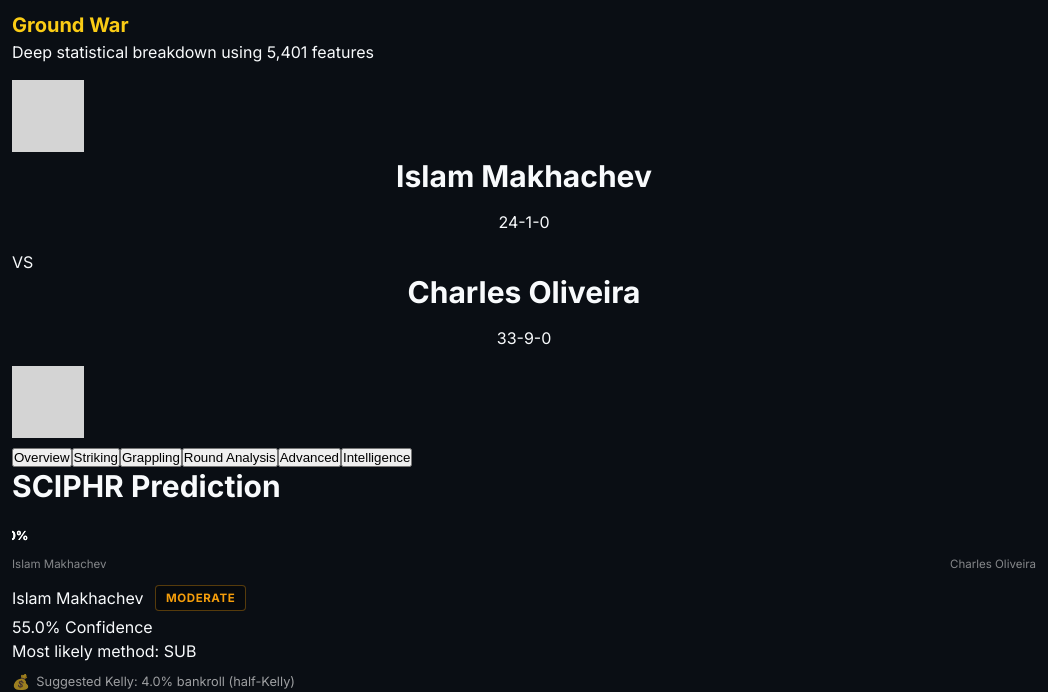
Test: AnalystMode — Intelligence tab › renders chaos score
Click the button "Intelligence": x=377, y=458 [341,448,412,467]
(page scrolled)
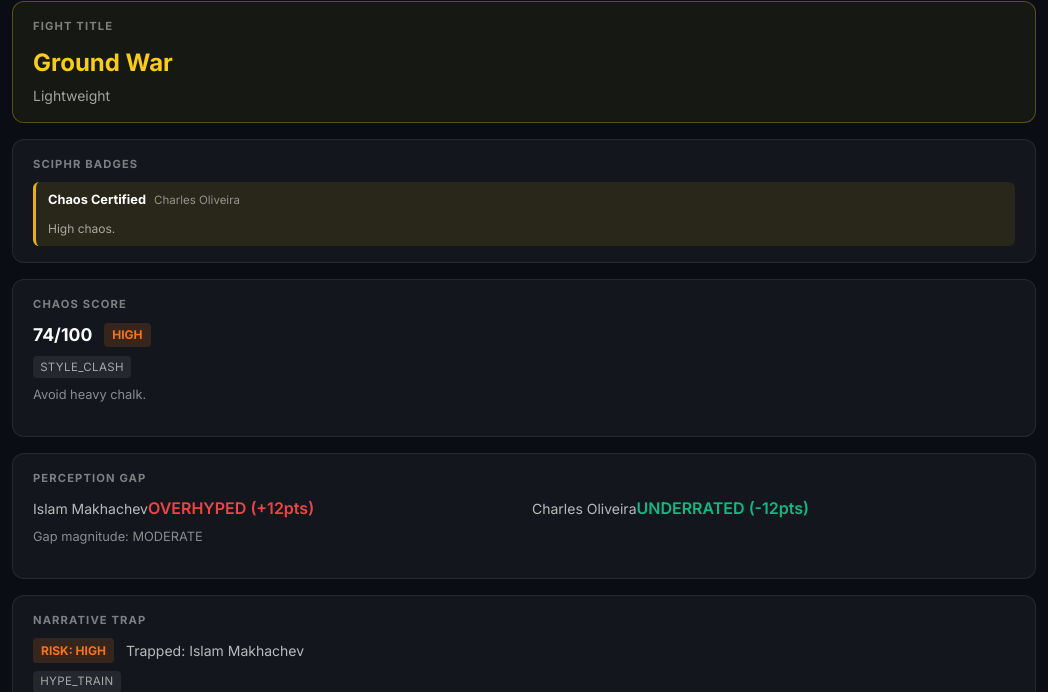
Now the text "74/100" is shown, box [33,322,92,348]
